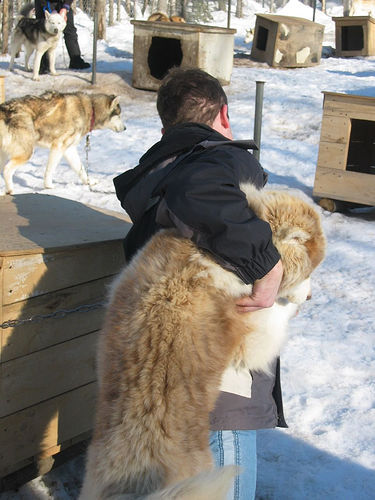dog: (73, 182, 328, 498), (0, 86, 128, 190), (5, 6, 66, 81)
